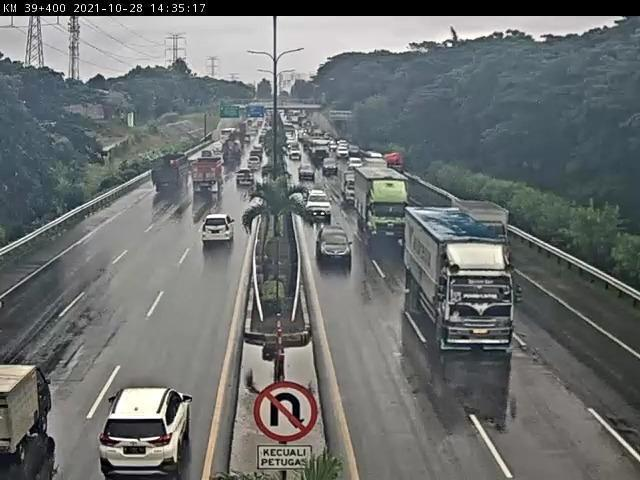car: (120, 378, 186, 468), (1, 358, 45, 447), (319, 216, 351, 254), (203, 216, 236, 250), (307, 182, 325, 209), (339, 172, 357, 196), (298, 160, 316, 179), (249, 158, 263, 177), (325, 154, 338, 174), (234, 177, 254, 189), (290, 146, 301, 160), (350, 158, 357, 169)
truck: (422, 208, 525, 347), (357, 164, 405, 234), (156, 152, 183, 199), (194, 158, 221, 201), (226, 137, 245, 161)
